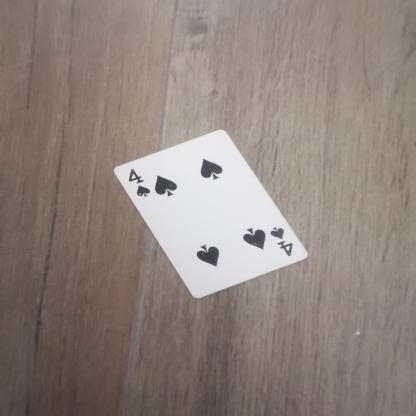4S: (114, 158, 152, 209), (260, 218, 298, 262)
